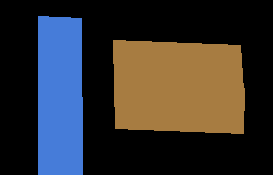parkingspot: (38, 16, 82, 175), (113, 40, 243, 90), (114, 84, 244, 133)
